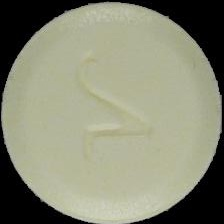33261-340: (0, 0, 224, 224)
